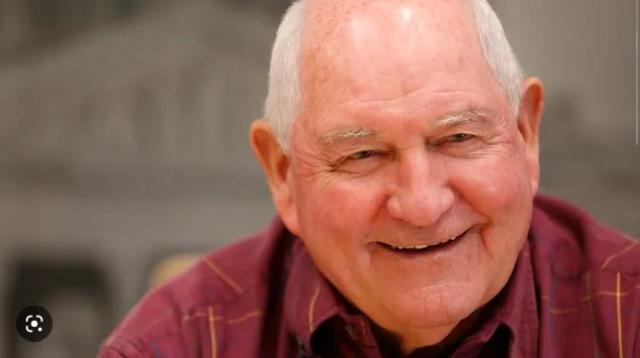crows_feet: (478, 128, 504, 156), (312, 154, 338, 180)
forehead: (371, 87, 421, 105)
sad_smile: (476, 226, 492, 254)
